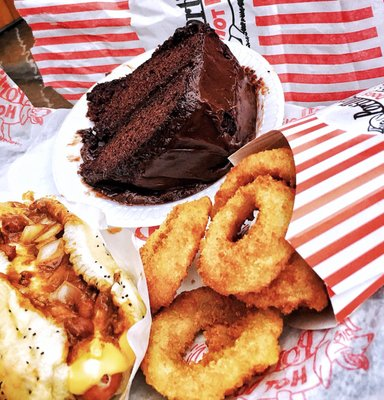salad: (196, 134, 330, 315), (140, 287, 284, 400), (194, 173, 296, 298), (139, 196, 211, 311)
sandwich: (0, 194, 150, 400)
sushi: (69, 20, 272, 204)
